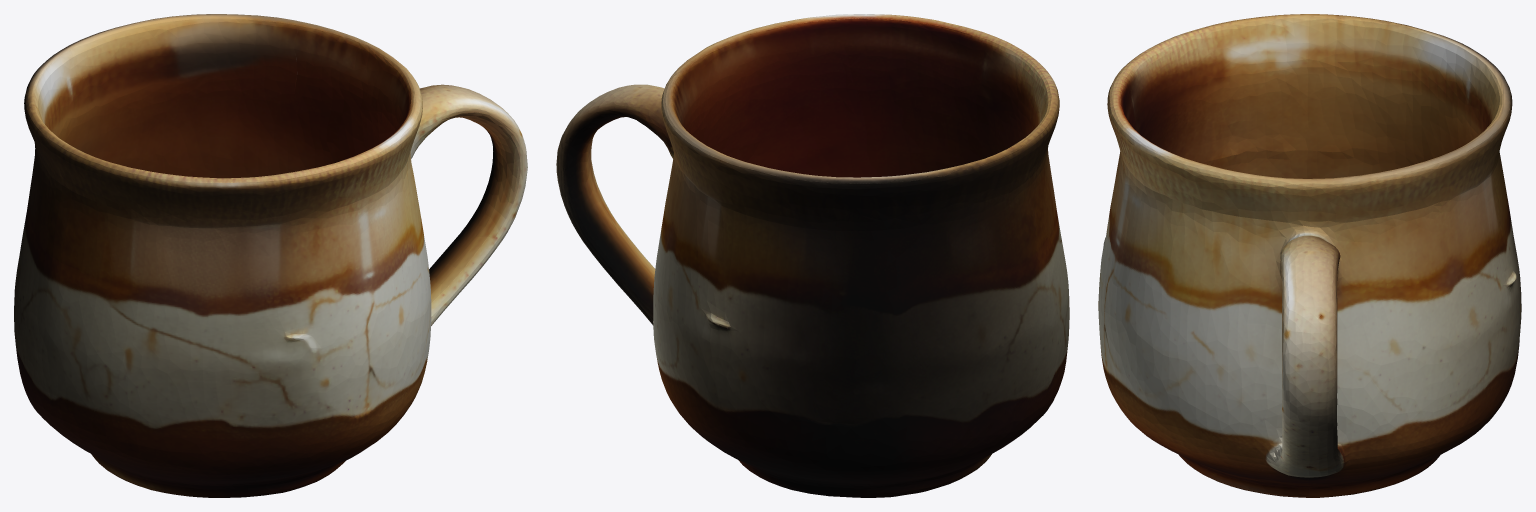
Rendered from porcelain-handcrafted-mug-rustic.jpeg.glb.
The picture shows the model from 3 angles, left to right: view 1: azimuth 30°, elevation 25°; view 2: azimuth 150°, elevation 25°; view 3: azimuth 270°, elevation 25°; orthographic projection.
Parts seen in each view (by area): view 1: world; view 2: world; view 3: world.
Part boxes in pixels (x1=…): world: x1=14, y1=14, x2=527, y2=497; world: x1=556, y1=14, x2=1069, y2=497; world: x1=1098, y1=14, x2=1521, y2=497.
Bounding box in the file's own units: 0.9993 × 0.692 × 0.7637.
Materials: 1 (1 with a texture image).
